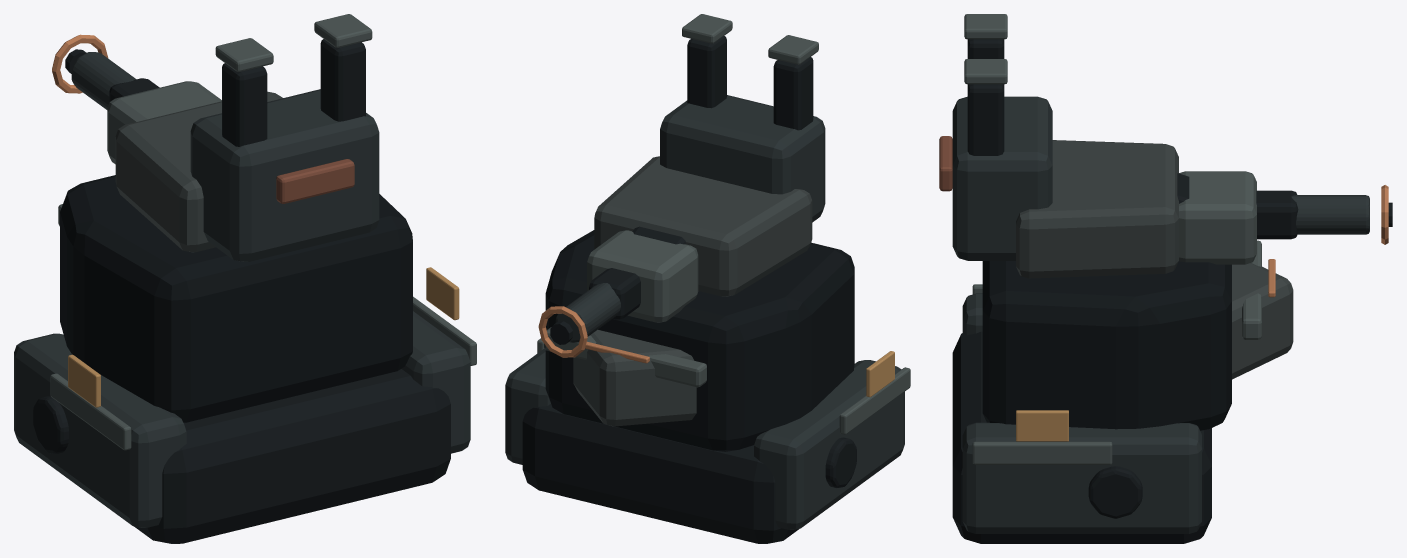
Rendered from enemy_brute.glb.
3 renders of one model, left to right at view 1: azimuth 30°, elevation 25°; view 2: azimuth 150°, elevation 25°; view 3: azimuth 270°, elevation 25°, orthographic. The views are drawn at different scales.
Parts seen in each view (by area): view 1: Brute_armored_hull, Brute_underframe, Brute_rear_engine_block, Brute_left_track_pod, Brute_gun_deck, Brute_right_track_pod, Brute_rear_exhaust_0, Brute_rear_exhaust_1, Brute_cannon_receiver, Brute_rear_rust_plate, Brute_left_track_rail, Brute_forward_cannon (+8 smaller); view 2: Brute_armored_hull, Brute_underframe, Brute_gun_deck, Brute_rear_engine_block, Brute_left_track_pod, Brute_front_breacher_wedge, Brute_cannon_receiver, Brute_right_track_pod, Brute_rear_exhaust_0, Brute_rear_exhaust_1, Brute_forward_cannon, Brute_breacher_edge (+7 smaller); view 3: Brute_armored_hull, Brute_right_track_pod, Brute_gun_deck, Brute_rear_engine_block, Brute_underframe, Brute_cannon_receiver, Brute_front_breacher_wedge, Brute_right_track_rail, Brute_forward_cannon, Brute_rear_exhaust_1, Brute_right_track_axle, Brute_cannon_heat_guard (+7 smaller).
Boxes of the visible parts, x1=… form: Brute_armored_hull: x1=60, y1=175, x2=412, y2=422; Brute_underframe: x1=134, y1=369, x2=450, y2=543; Brute_rear_engine_block: x1=190, y1=89, x2=379, y2=261; Brute_left_track_pod: x1=14, y1=333, x2=186, y2=527; Brute_gun_deck: x1=115, y1=91, x2=282, y2=252; Brute_right_track_pod: x1=401, y1=311, x2=470, y2=453; Brute_rear_exhaust_0: x1=222, y1=63, x2=267, y2=146; Brute_rear_exhaust_1: x1=320, y1=39, x2=365, y2=121; Brute_cannon_receiver: x1=107, y1=81, x2=221, y2=164; Brute_rear_rust_plate: x1=276, y1=159, x2=354, y2=203; Brute_left_track_rail: x1=50, y1=373, x2=131, y2=450; Brute_forward_cannon: x1=71, y1=52, x2=136, y2=109; Brute_armored_hull: x1=545, y1=230, x2=854, y2=451; Brute_underframe: x1=522, y1=404, x2=798, y2=543; Brute_gun_deck: x1=594, y1=156, x2=812, y2=296; Brute_rear_engine_block: x1=660, y1=95, x2=825, y2=222; Brute_left_track_pod: x1=754, y1=360, x2=904, y2=529; Brute_front_breacher_wedge: x1=573, y1=329, x2=696, y2=426; Brute_cannon_receiver: x1=587, y1=230, x2=698, y2=322; Brute_right_track_pod: x1=505, y1=348, x2=550, y2=464; Brute_rear_exhaust_0: x1=773, y1=57, x2=813, y2=130; Brute_rear_exhaust_1: x1=687, y1=36, x2=726, y2=108; Brute_forward_cannon: x1=555, y1=283, x2=620, y2=342; Brute_breacher_edge: x1=544, y1=327, x2=706, y2=387; Brute_armored_hull: x1=982, y1=261, x2=1231, y2=430; Brute_right_track_pod: x1=962, y1=422, x2=1201, y2=533; Brute_gun_deck: x1=1016, y1=140, x2=1178, y2=278; Brute_rear_engine_block: x1=952, y1=96, x2=1052, y2=260; Brute_underframe: x1=952, y1=331, x2=1211, y2=543; Brute_cannon_receiver: x1=1179, y1=171, x2=1256, y2=264; Brute_front_breacher_wedge: x1=1232, y1=263, x2=1293, y2=379; Brute_right_track_rail: x1=972, y1=441, x2=1112, y2=464; Brute_forward_cannon: x1=1291, y1=195, x2=1369, y2=234; Brute_rear_exhaust_1: x1=967, y1=84, x2=1004, y2=155; Brute_right_track_axle: x1=1088, y1=466, x2=1142, y2=518; Brute_cannon_heat_guard: x1=1256, y1=190, x2=1298, y2=239.
Bounding box in the file's own units: 1.18 × 1.47 × 1.36.
